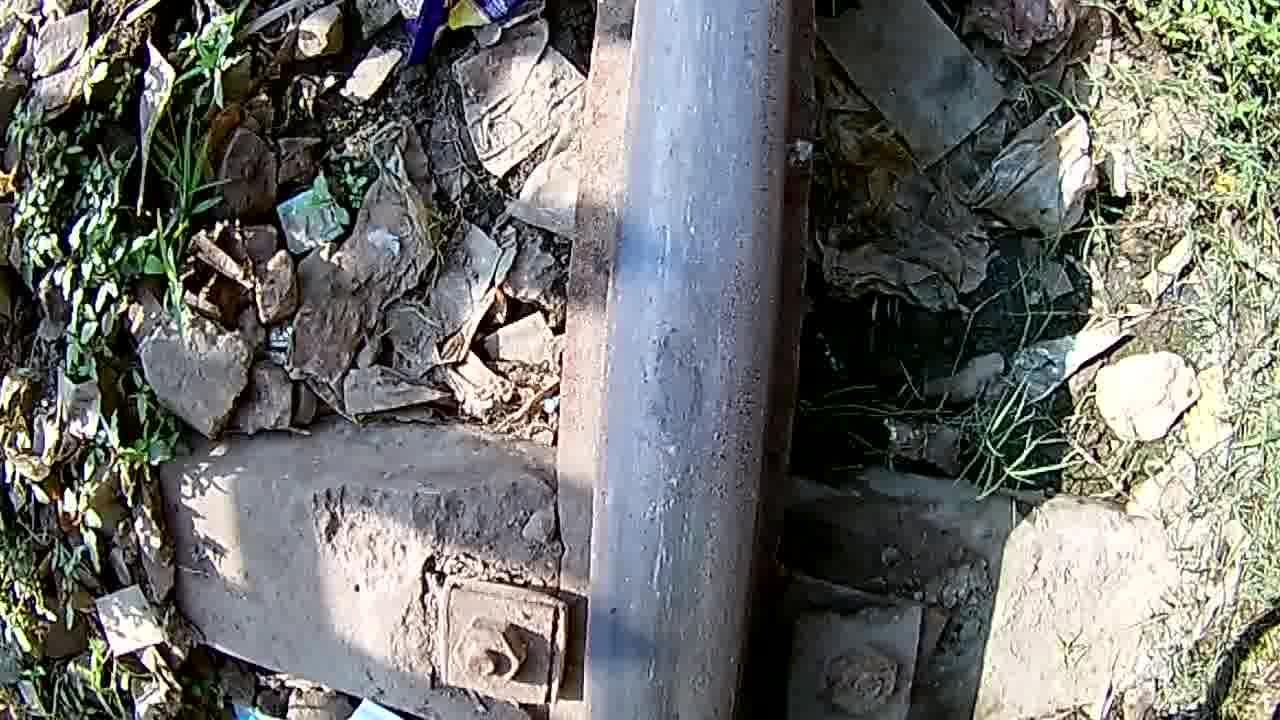crack: (598, 227, 768, 537)
